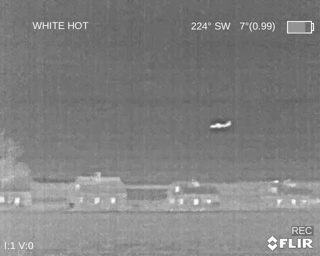AIRPLANE: (209, 120, 232, 130)
